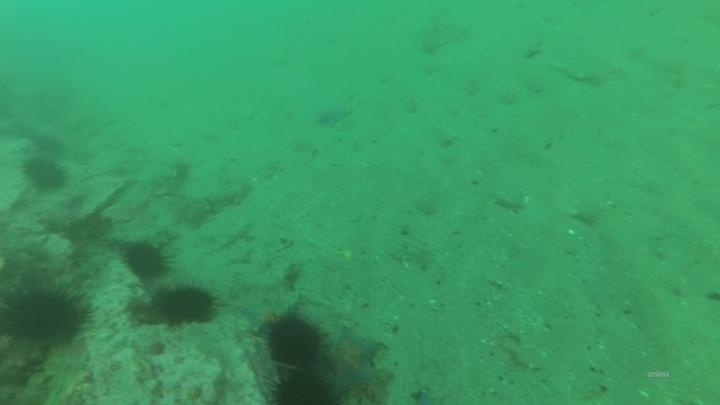echinus: (2, 281, 92, 350), (262, 309, 326, 370), (151, 281, 219, 328), (267, 367, 338, 405), (121, 238, 173, 283), (21, 155, 69, 195), (31, 131, 67, 158)
holothurian: (175, 177, 253, 228), (50, 248, 112, 291), (416, 16, 476, 56)
starfish: (321, 326, 386, 397), (239, 296, 296, 337), (313, 101, 354, 130)
